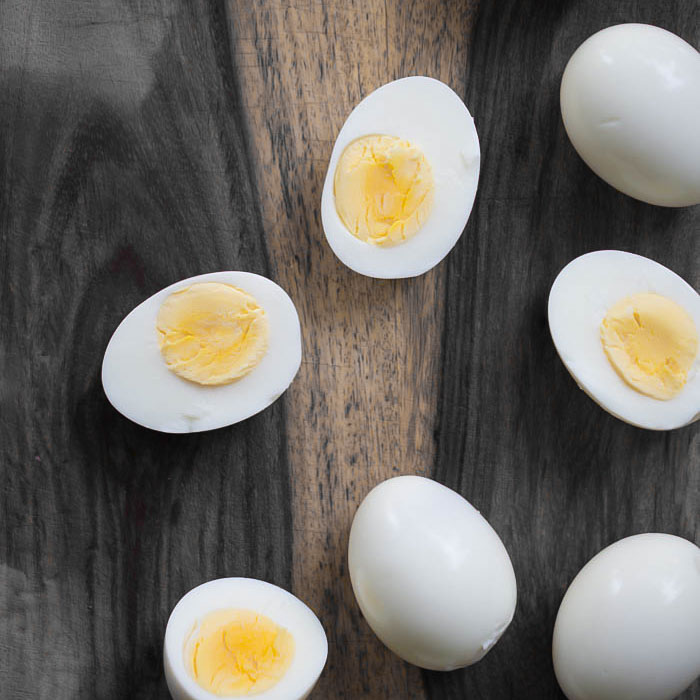egg: (85, 244, 319, 460), (311, 69, 494, 289), (334, 466, 517, 686), (539, 224, 700, 449), (539, 1, 700, 225), (541, 525, 700, 699), (157, 571, 334, 700)
